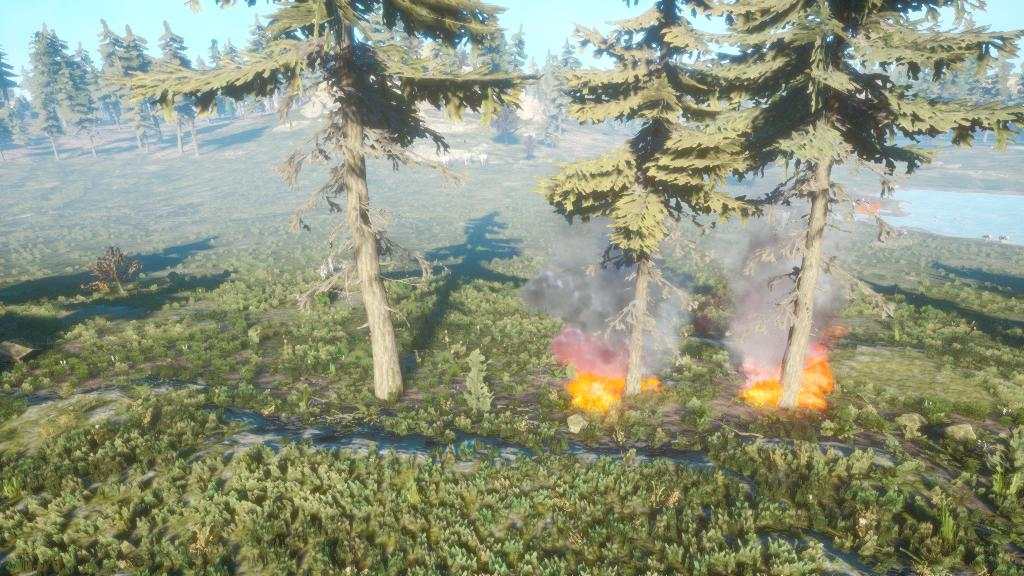Fire: (562, 370, 625, 411), (799, 343, 832, 407), (745, 375, 778, 405), (854, 201, 882, 219)
smoke: (548, 279, 631, 364), (729, 278, 783, 368), (823, 231, 832, 342)
